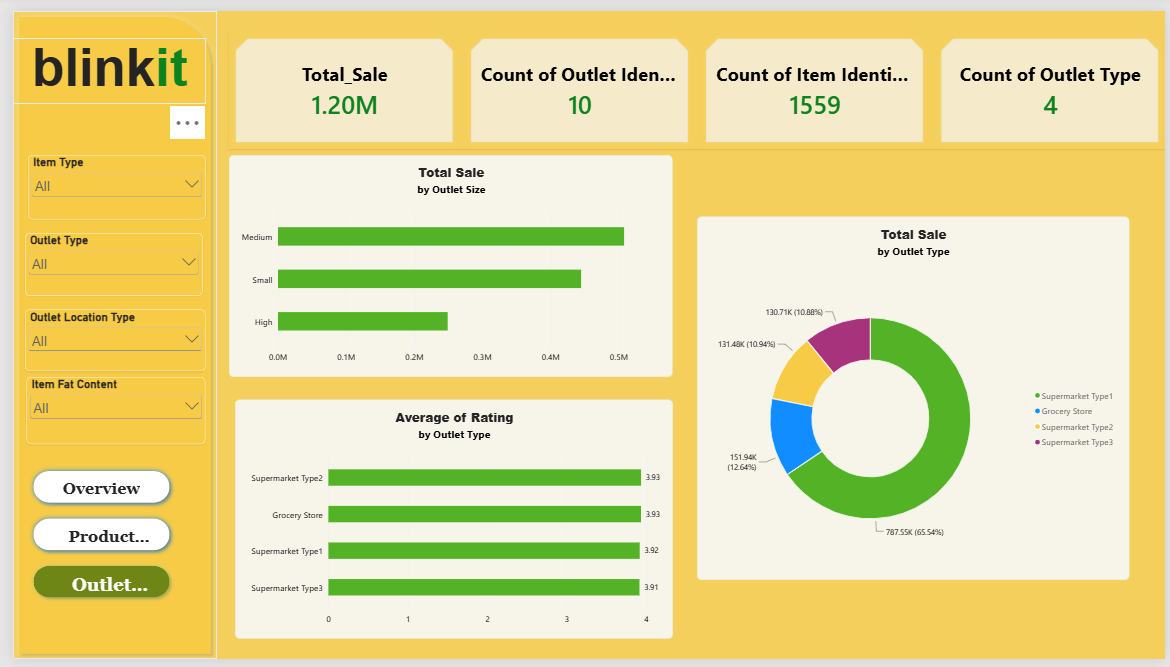

Layout of this report page (visuals, bound fields, positions):
{"tool":"powerbi","page":{"name":"Outlet Performance","canvas":[1920,1080],"ordinal":2},"visuals":[{"type":"group","id":"g1","title":"Group 5","box":[0,0,338.8,1080.8],"z":0,"group":"g3"},{"type":"donutChart","title":"Total Sale","fields":{"Y":["DAX Measure.Total_Sale"],"Category":["BlinkIT Grocery Data.Outlet Type"]},"box":[1140.5,343.6,720.5,606],"z":0},{"type":"group","id":"g2","title":"Group 4","box":[19.5,241,301.4,481.9],"z":1000,"group":"g3"},{"type":"clusteredBarChart","title":"Total Sale","fields":{"Category":["BlinkIT Grocery Data.Outlet Size"],"Y":["DAX Measure.Total_Sale"]},"box":[360.3,241,739.6,369.8],"z":2000},{"type":"slicer","fields":{"Values":["BlinkIT Grocery Data.Item Type"]},"box":[25.1,241,295.9,107.4],"z":3000,"group":"g2"},{"type":"barChart","fields":{"Category":["BlinkIT Grocery Data.Outlet Type"],"Y":["Avg(BlinkIT Grocery Data.Rating)"]},"box":[369.8,646.6,730.1,398.4],"z":3000},{"type":"group","id":"g3","title":"Group 6","box":[0,0,338.8,1080.8],"z":4000},{"type":"slicer","fields":{"Values":["BlinkIT Grocery Data.Outlet Type"]},"box":[20.3,372.2,295.9,105],"z":4000,"group":"g2"},{"type":"slicer","fields":{"Values":["BlinkIT Grocery Data.Outlet Location Type"]},"box":[19.5,498.6,300.6,102.6],"z":5000,"group":"g2"},{"type":"pageNavigator","box":[26.2,756.3,245.7,229],"z":5000},{"type":"cardVisual","fields":{"Data":["DAX Measure.Total_Sale","Count(BlinkIT Grocery Data.Outlet Identifier)","Count(BlinkIT Grocery Data.Item Identifier)","Count(BlinkIT Grocery Data.Outlet Type)"]},"box":[360.3,35.8,1560.4,195.6],"z":6000},{"type":"slicer","fields":{"Values":["BlinkIT Grocery Data.Item Fat Content"]},"box":[22.7,610.7,298.2,112.1],"z":6000,"group":"g2"},{"type":"shape","box":[0,0,338.8,1080.8],"z":11002,"group":"g1"},{"type":"textbox","box":[0,45.3,322.1,109.8],"z":11503,"group":"g1"}]}

Visuals, with their boxes in screenshot pixels (x1, y1, x2, y2), scaled from the page's 1920x1080 canvas onto the 1170x667 screenshot:
"Group 5" group: region(0, 0, 206, 666)
"Total Sale" donutChart: region(695, 212, 1134, 586)
"Group 4" group: region(12, 149, 196, 446)
"Total Sale" clusteredBarChart: region(220, 149, 670, 377)
slicer - BlinkIT Grocery Data.Item Type: region(15, 149, 196, 215)
barChart - BlinkIT Grocery Data.Outlet Type x Avg(BlinkIT Grocery Data.Rating): region(225, 399, 670, 645)
"Group 6" group: region(0, 0, 206, 666)
slicer - BlinkIT Grocery Data.Outlet Type: region(12, 230, 193, 295)
slicer - BlinkIT Grocery Data.Outlet Location Type: region(12, 308, 195, 371)
pageNavigator: region(16, 467, 166, 609)
cardVisual - DAX Measure.Total_Sale x Count(BlinkIT Grocery Data.Outlet Identifier): region(220, 22, 1169, 143)
slicer - BlinkIT Grocery Data.Item Fat Content: region(14, 377, 196, 446)
shape: region(0, 0, 206, 666)
textbox: region(0, 28, 196, 96)
